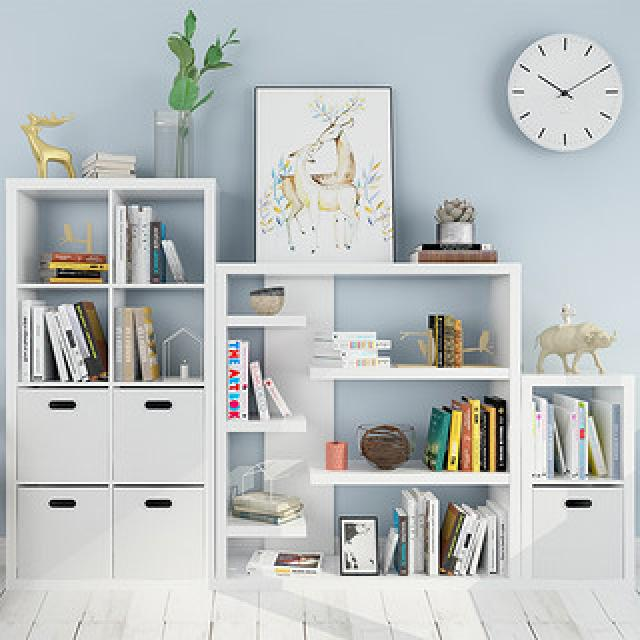Shelf: (218, 260, 526, 586), (2, 175, 218, 587)
